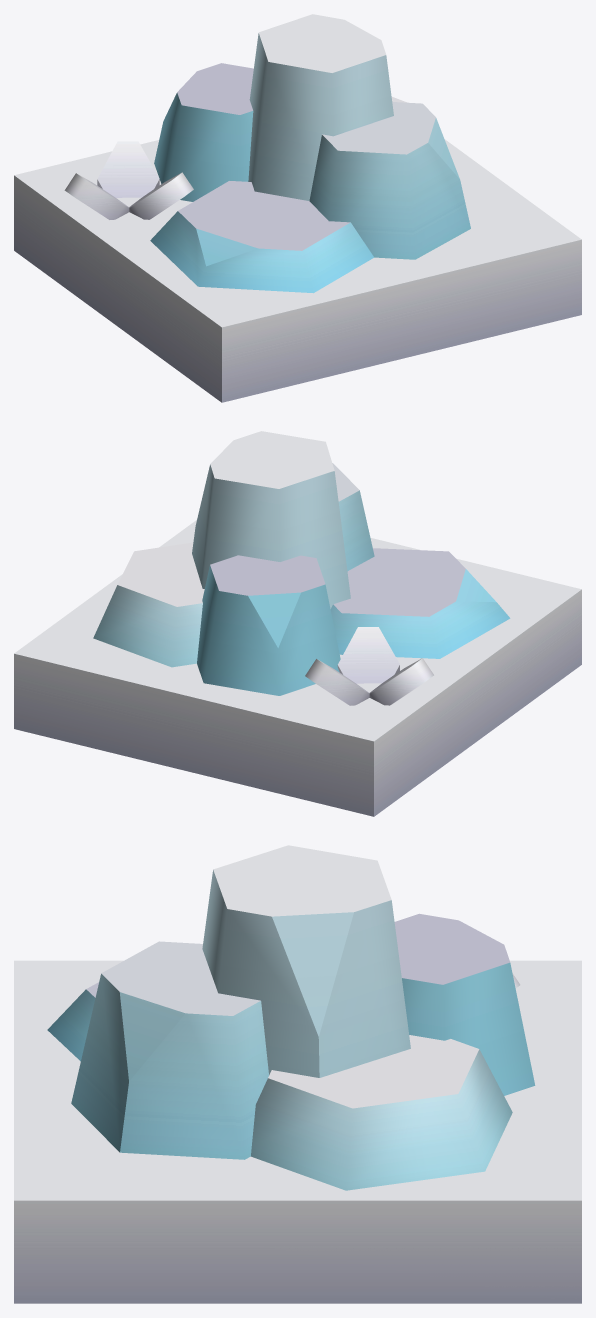
Rendered from snow-tile-hill.glb.
The picture shows the model from 3 angles, top to bottom: view 1: azimuth 30°, elevation 25°; view 2: azimuth 150°, elevation 25°; view 3: azimuth 270°, elevation 25°; orthographic projection. The views are drawn at different scales.
Parts seen in each view (by area): view 1: snow-tile-hill; view 2: snow-tile-hill; view 3: snow-tile-hill.
Part boxes in pixels (x1=…): snow-tile-hill: x1=14, y1=14, x2=581, y2=402; snow-tile-hill: x1=14, y1=431, x2=581, y2=816; snow-tile-hill: x1=14, y1=845, x2=581, y2=1303.
Size of the model in its own units: 1 by 0.6146 by 1.
Materials: 1 (1 with a texture image).
